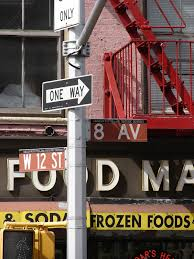oneWay: (41, 76, 94, 109)
